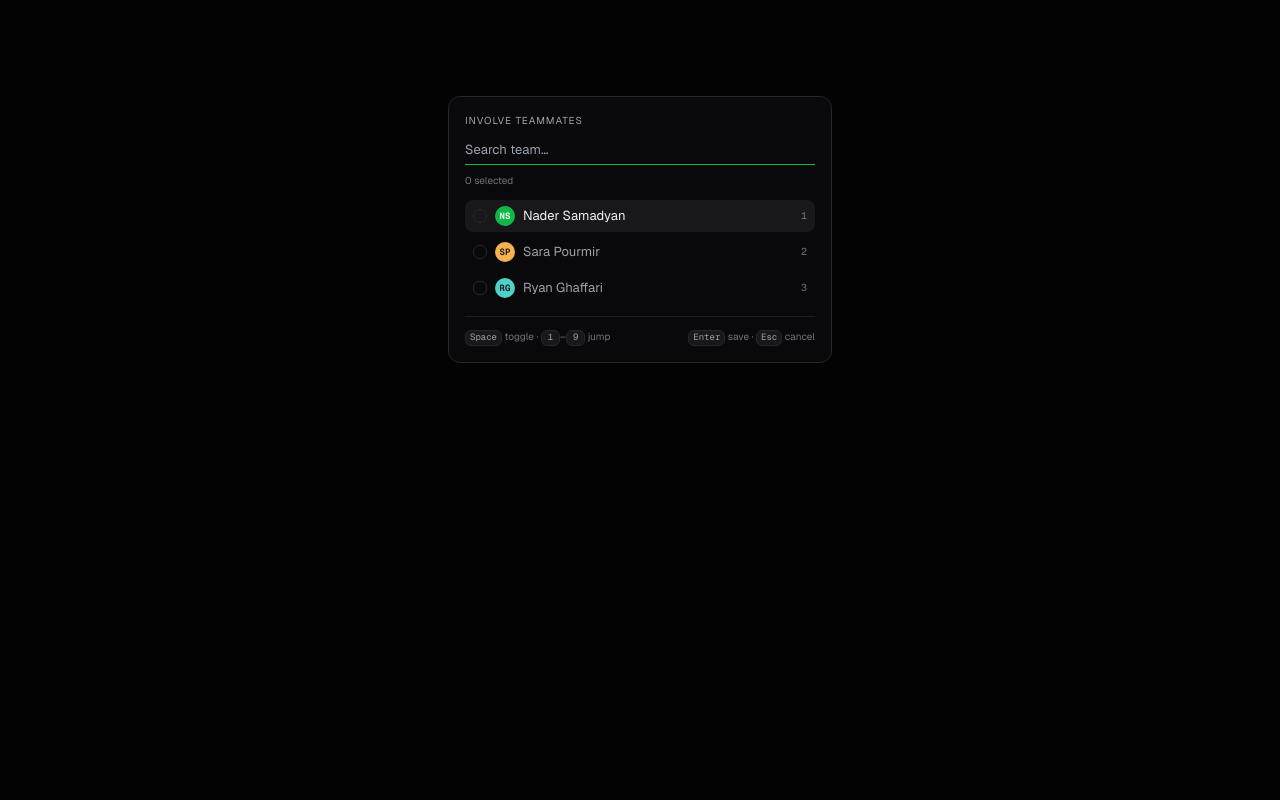
Test: InvolvedUsersPickerModal › clicking a user toggles selection and updates the counter
The image size is (1280, 800).
expect the text "0 selected" is shown: met, box [465,174,513,187]
Click the text "Sara Pourmir" at (562, 252), box [523,242,600,262]
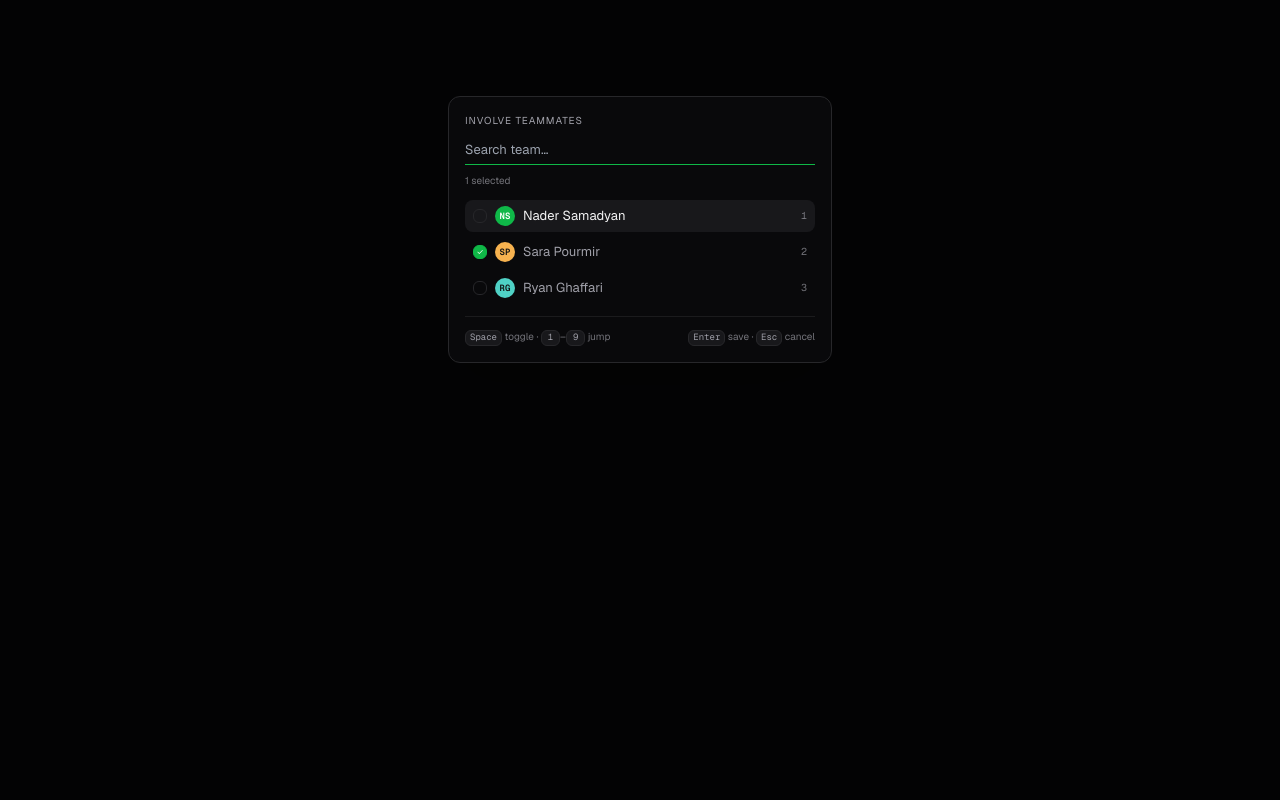
expect the text "1 selected" is shown: met, box [465,174,510,187]
Click the text "Ryan Ghaffari" at (563, 288), box [523,278,603,298]
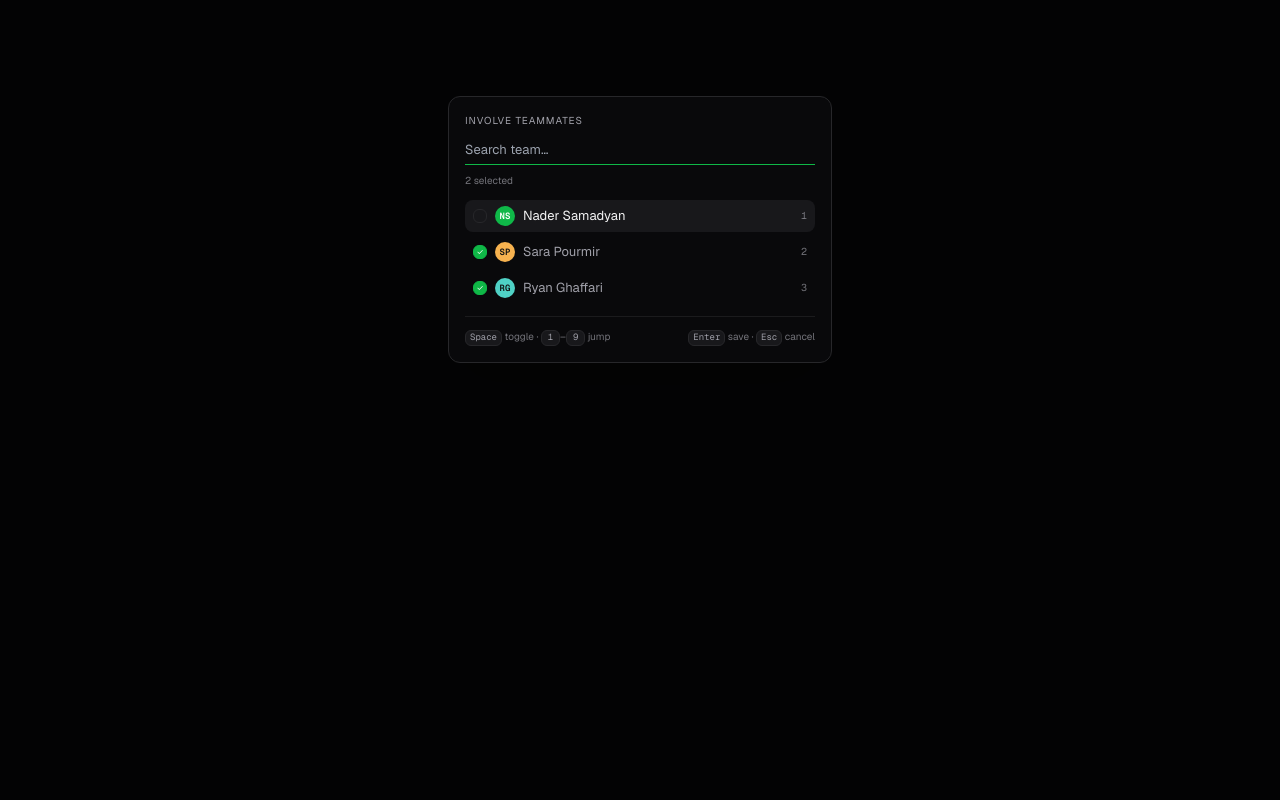
expect the text "2 selected" is shown: met, box [465,174,513,187]
# Clicking again deselects.
Click the text "Sara Pourmir" at (562, 252), box [523,242,600,262]
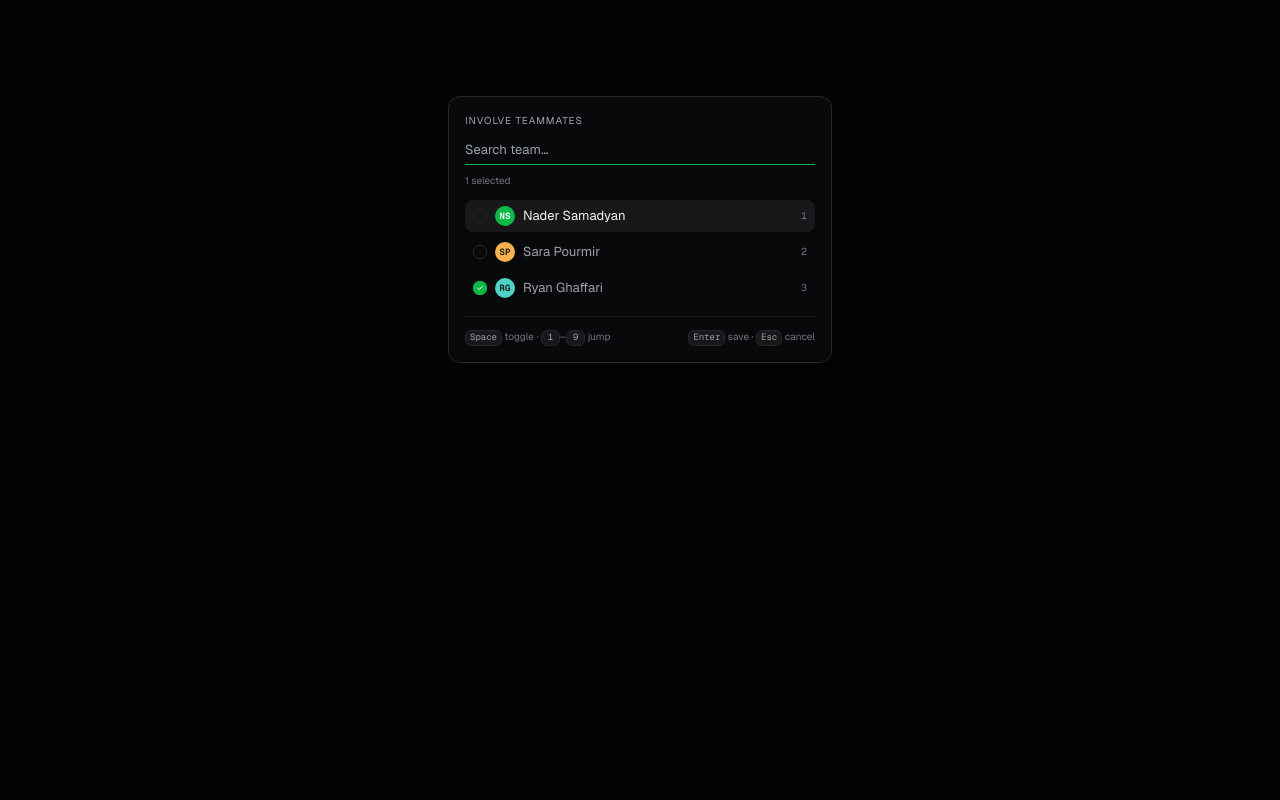
expect the text "1 selected" is shown: met, box [465,174,510,187]
